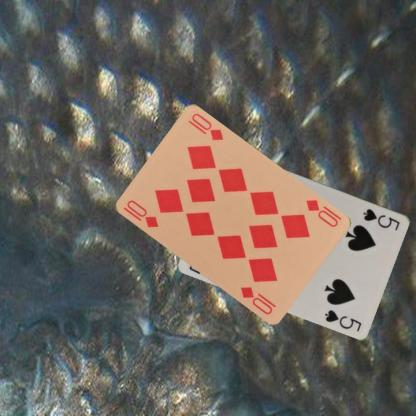10d: (302, 196, 343, 229), (120, 197, 160, 229)
5s: (360, 206, 402, 232)
